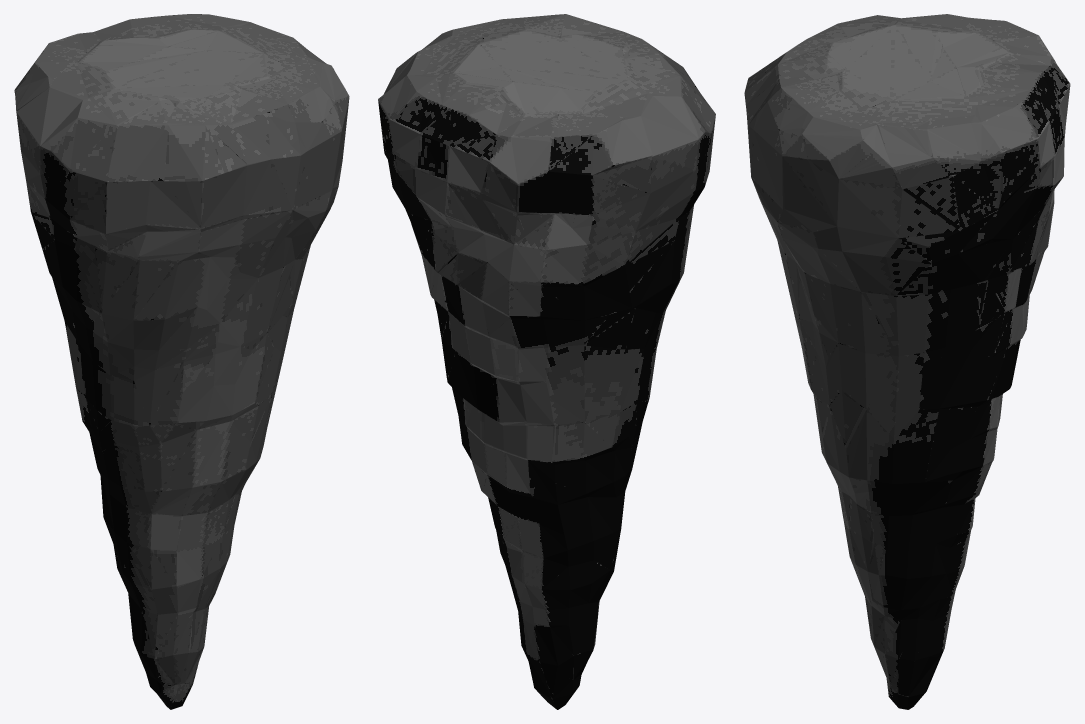
The picture shows the model from 3 angles, left to right: view 1: azimuth 30°, elevation 25°; view 2: azimuth 150°, elevation 25°; view 3: azimuth 270°, elevation 25°; orthographic projection.
Visible parts, largest first — view 1: OBJ0d3; view 2: OBJ0d3; view 3: OBJ0d3.
Part boxes in pixels (bbox=[...]): OBJ0d3: bbox=[14, 14, 349, 709]; OBJ0d3: bbox=[378, 14, 715, 709]; OBJ0d3: bbox=[744, 14, 1070, 709].
Size of the model in its own units: 0.1746 by 0.3666 by 0.1661.
1 material, 1 textured.
